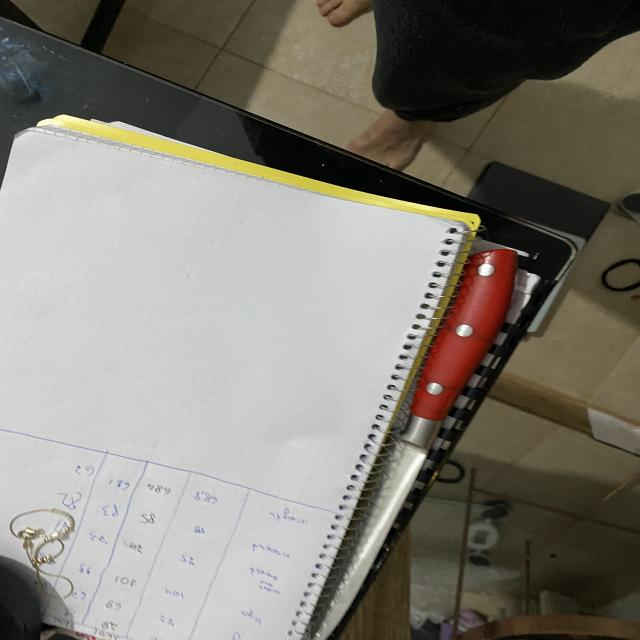Hammer: (205, 193, 592, 640), (243, 176, 453, 640)
